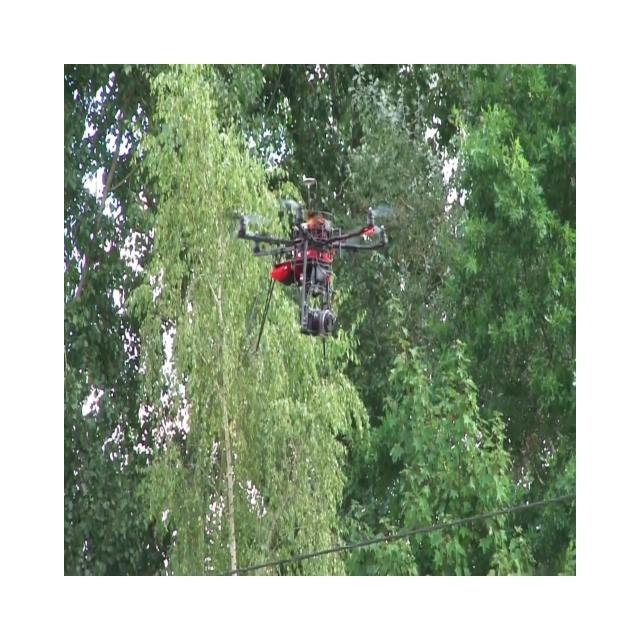drone: (231, 173, 393, 362)
